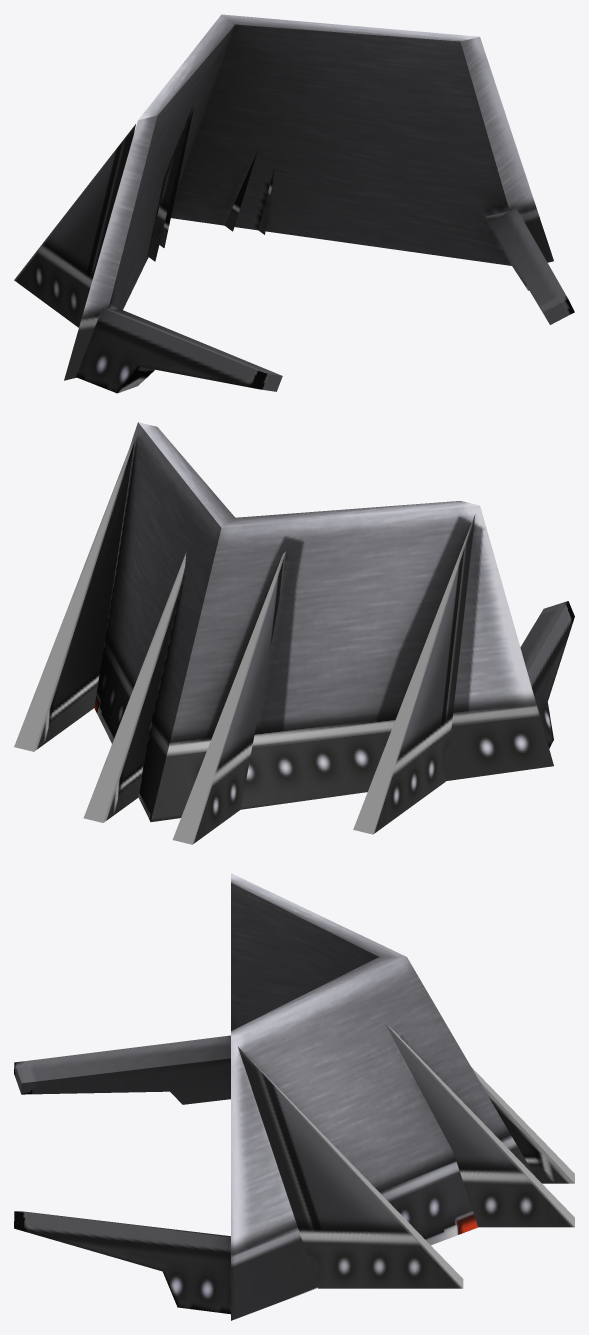
File: _trawl.FBX
3 renders of one model, top to bottom at view 1: azimuth 30°, elevation 25°; view 2: azimuth 150°, elevation 25°; view 3: azimuth 270°, elevation 25°, orthographic.
Parts seen in each view (by area): view 1: _trawl; view 2: _trawl; view 3: _trawl.
Part boxes in pixels (left/top/right/bottom): _trawl: left=14, top=14, right=574, bottom=393; _trawl: left=14, top=422, right=574, bottom=844; _trawl: left=14, top=873, right=574, bottom=1320.
Bounding box in the file's own units: 1.27 × 0.5982 × 1.25.
